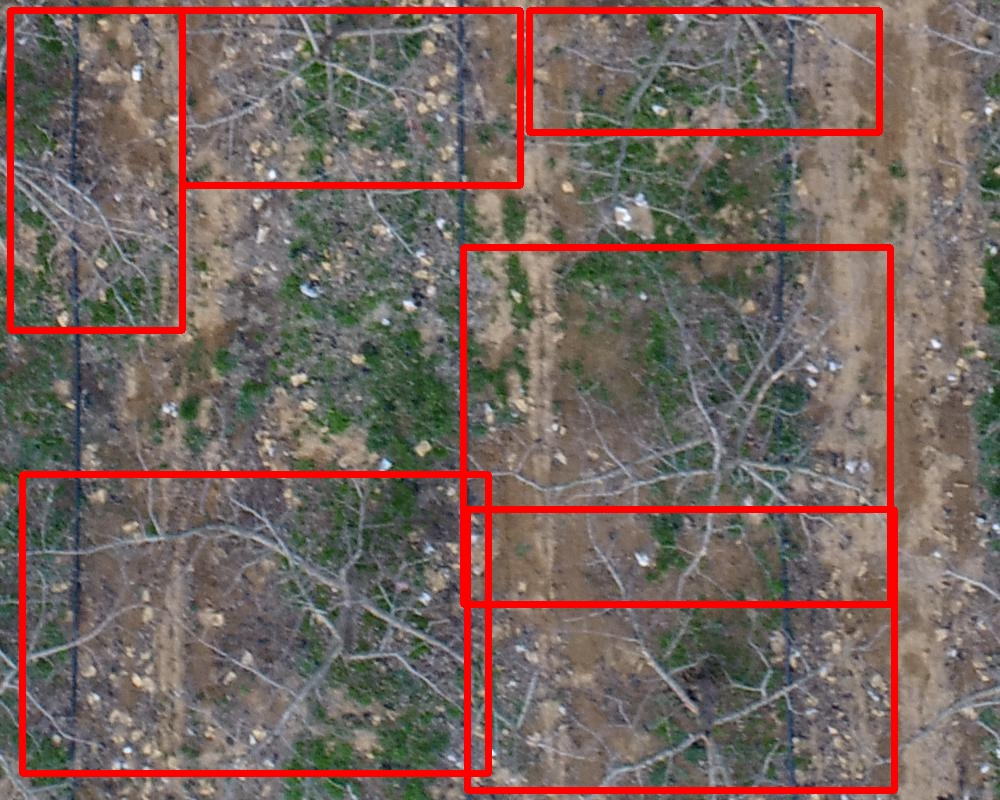apple: (463, 247, 890, 604), (22, 474, 488, 773), (467, 509, 894, 790), (182, 10, 520, 185), (10, 10, 182, 330), (529, 10, 879, 132)
